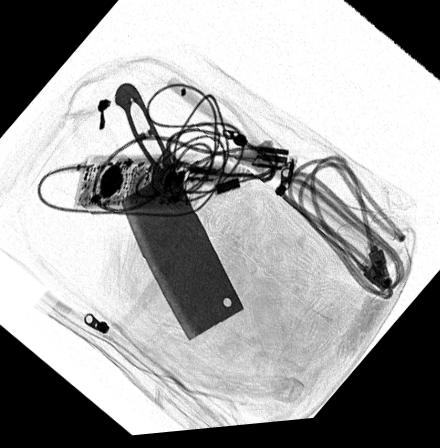Knife: (113, 84, 245, 346)
